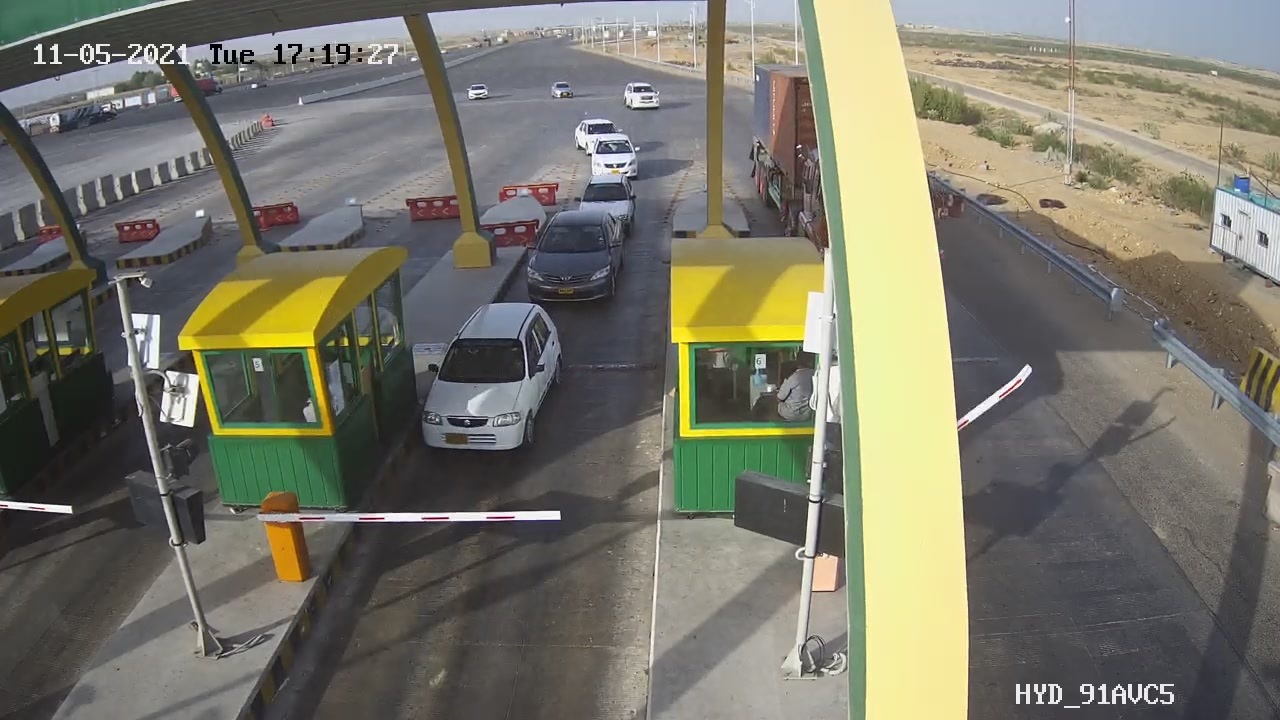F1: (408, 292, 579, 473), (511, 199, 640, 317)
